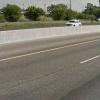Tree: (6, 1, 96, 32)
